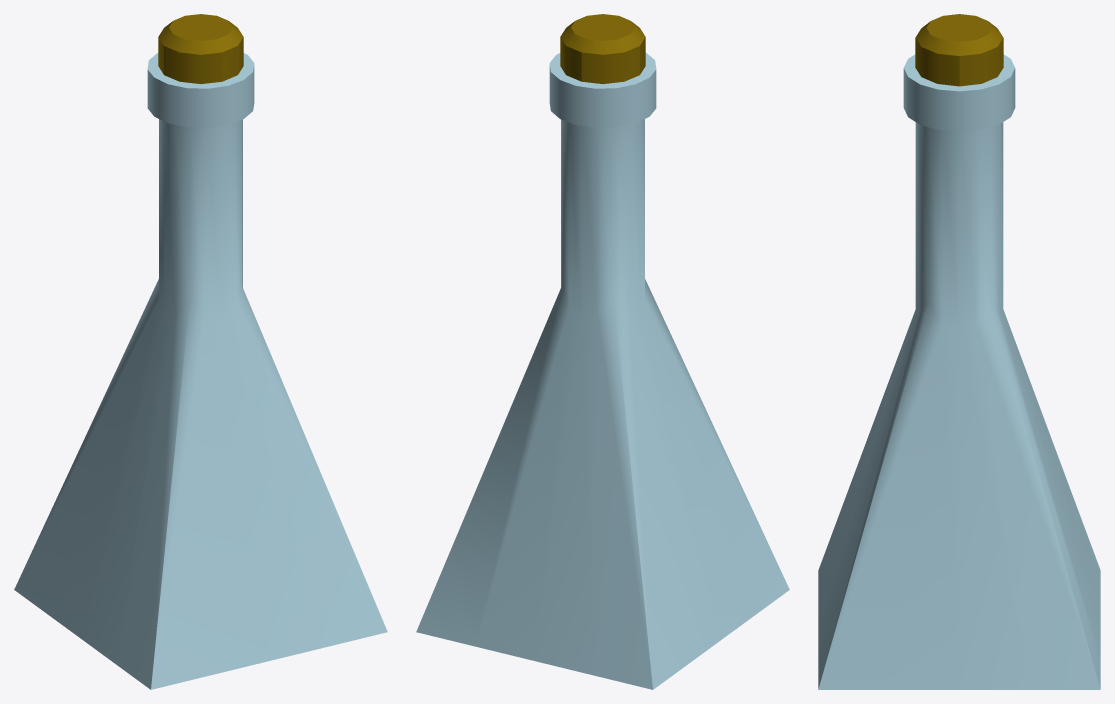
File: Bottle_v2_001.fbx
3 renders of one model, left to right at view 1: azimuth 30°, elevation 25°; view 2: azimuth 150°, elevation 25°; view 3: azimuth 270°, elevation 25°, orthographic. The views are drawn at different scales.
Visible parts, largest first — view 1: Bottle_v2_001; view 2: Bottle_v2_001; view 3: Bottle_v2_001.
Boxes of the visible parts, x1=… form: Bottle_v2_001: x1=14, y1=14, x2=387, y2=689; Bottle_v2_001: x1=416, y1=14, x2=789, y2=689; Bottle_v2_001: x1=818, y1=14, x2=1100, y2=689.
Size of the model in its own units: 27.61 by 64.98 by 27.61.
